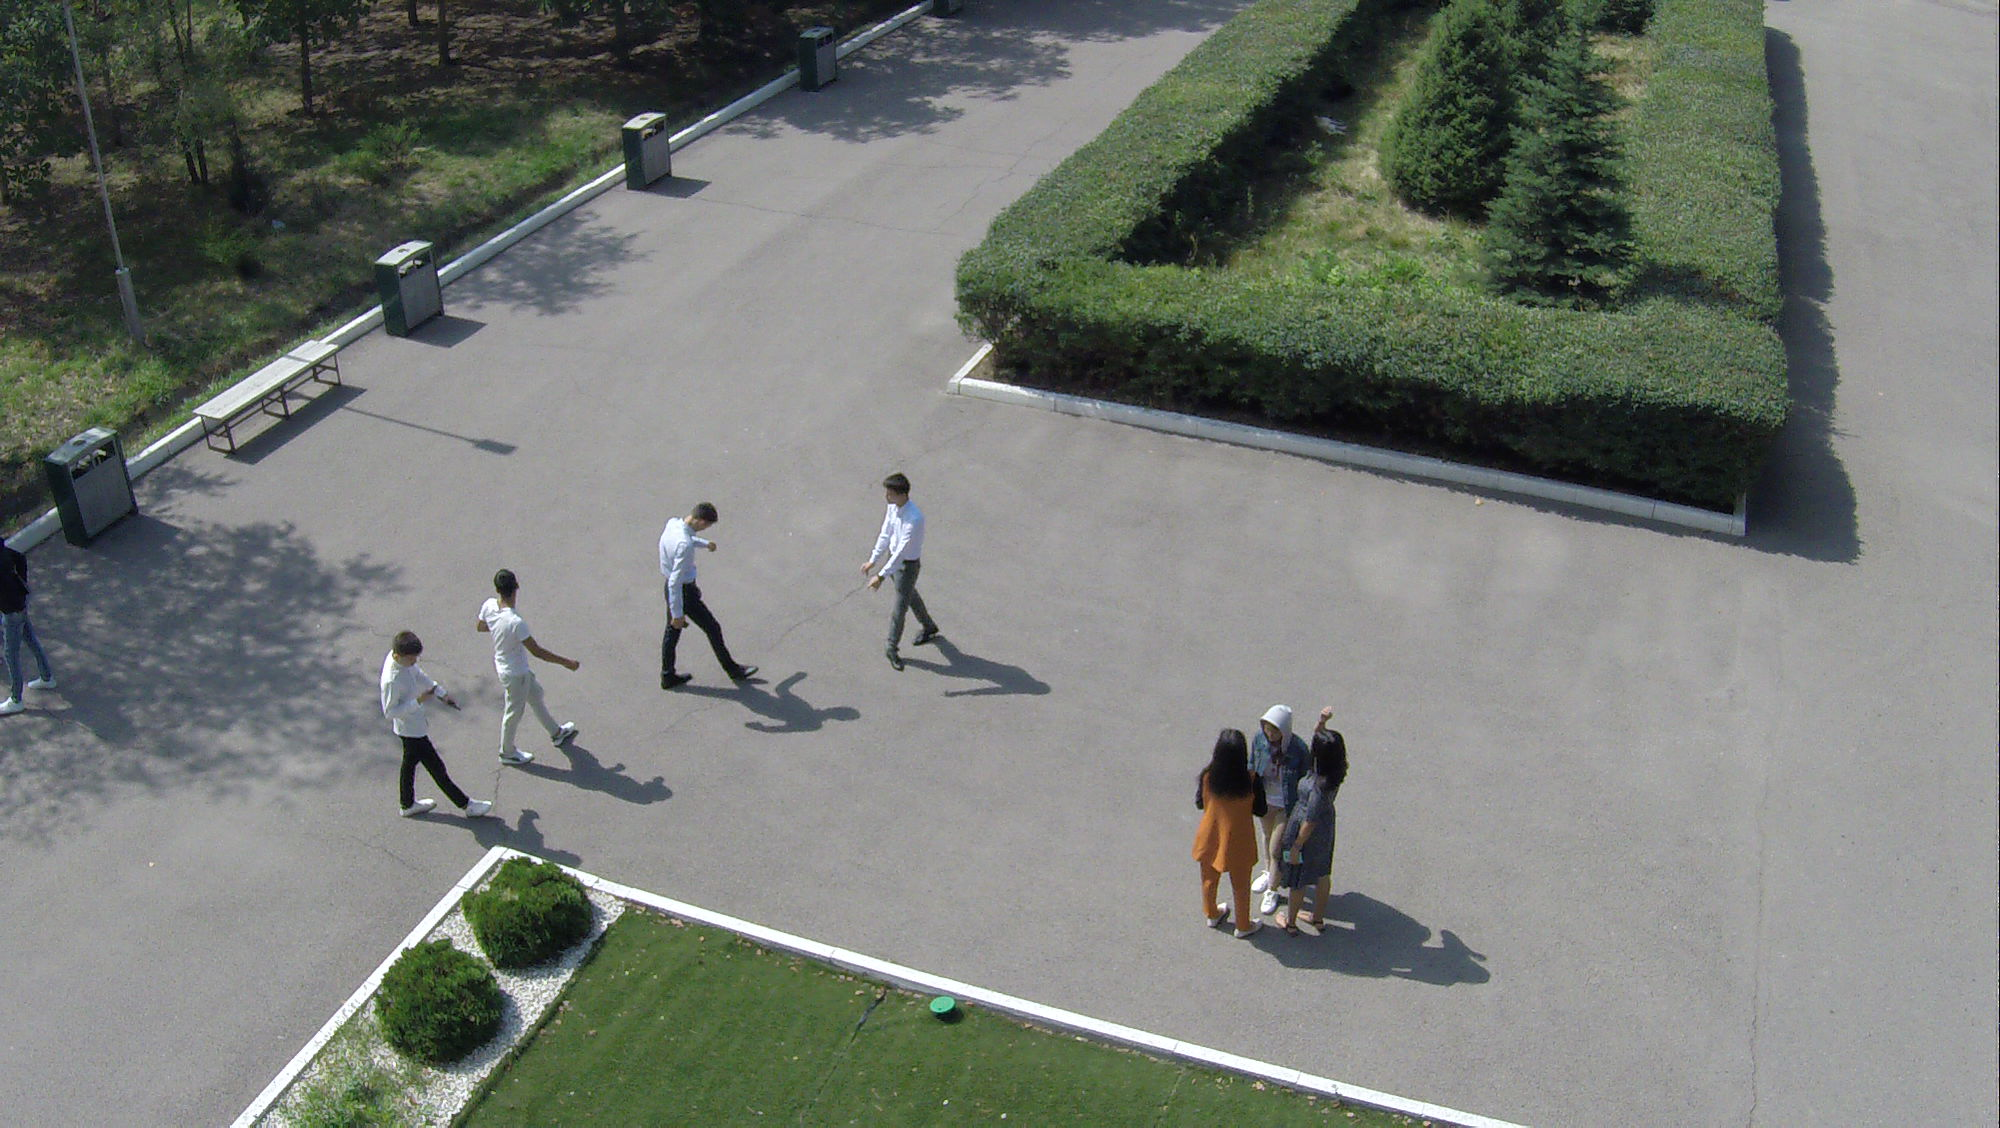person: (362, 633, 491, 833), (1276, 705, 1368, 945), (653, 495, 749, 699), (489, 564, 576, 770), (866, 472, 951, 680), (1245, 689, 1310, 912), (1191, 724, 1255, 947)
